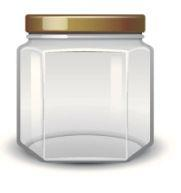glass: (16, 18, 153, 162)
